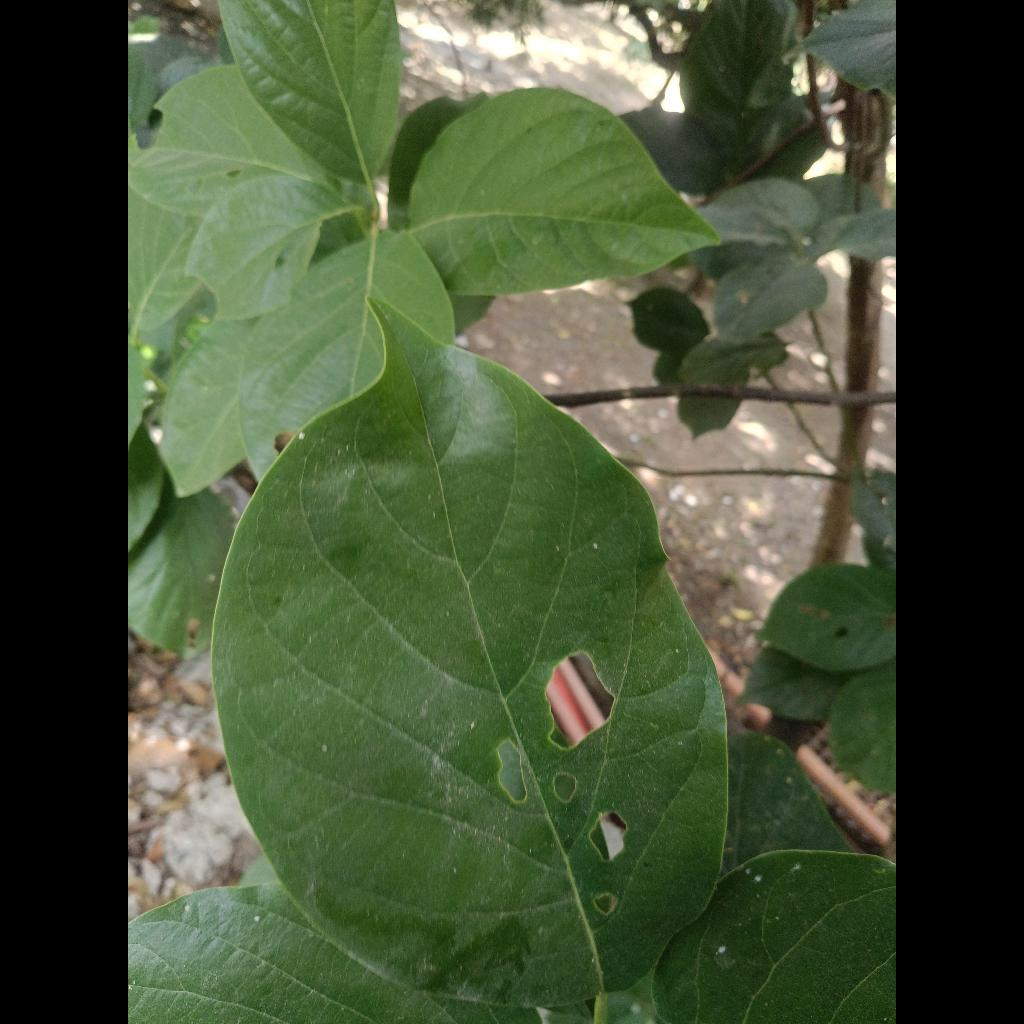plaga: (212, 306, 727, 1005)
